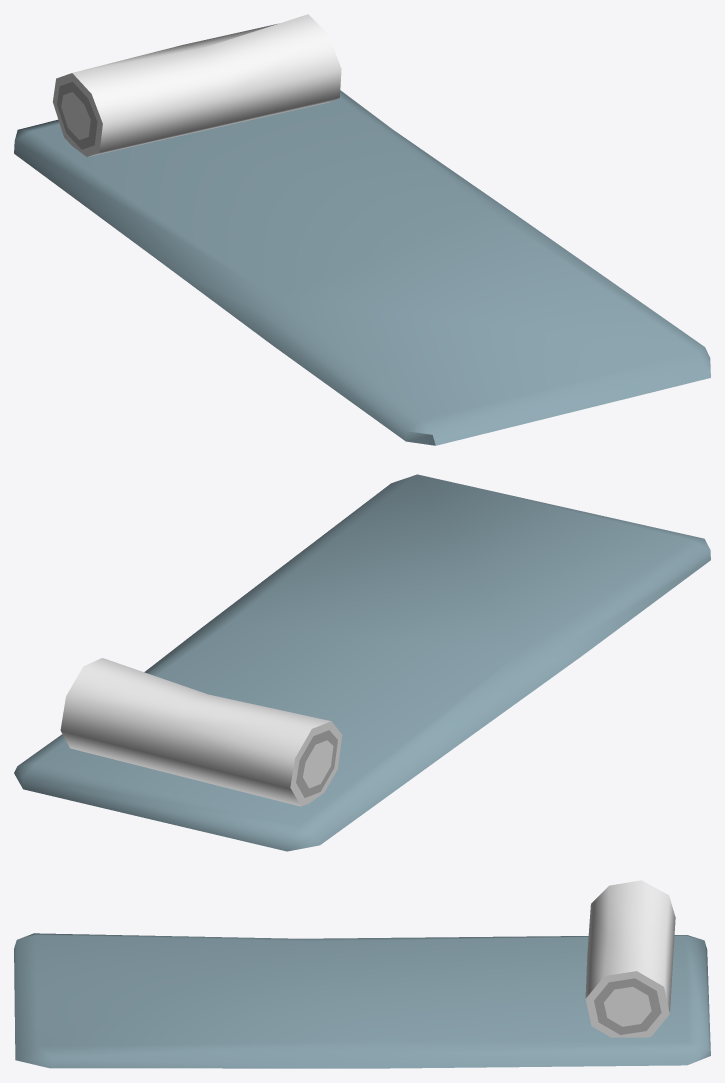
The model's file is bed_012.glb.
The picture shows the model from 3 angles, top to bottom: view 1: azimuth 30°, elevation 25°; view 2: azimuth 150°, elevation 25°; view 3: azimuth 270°, elevation 25°; orthographic projection. The views are drawn at different scales.
Parts seen in each view (by area): view 1: bed_012; view 2: bed_012; view 3: bed_012.
Boxes of the visible parts, x1,y1,x2,y2 form: bed_012: (14,14,710,445); bed_012: (14,474,710,851); bed_012: (14,880,710,1068).
Bounding box in the file's own units: 0.7283 × 0.2087 × 1.68.
1 material, 1 textured.
